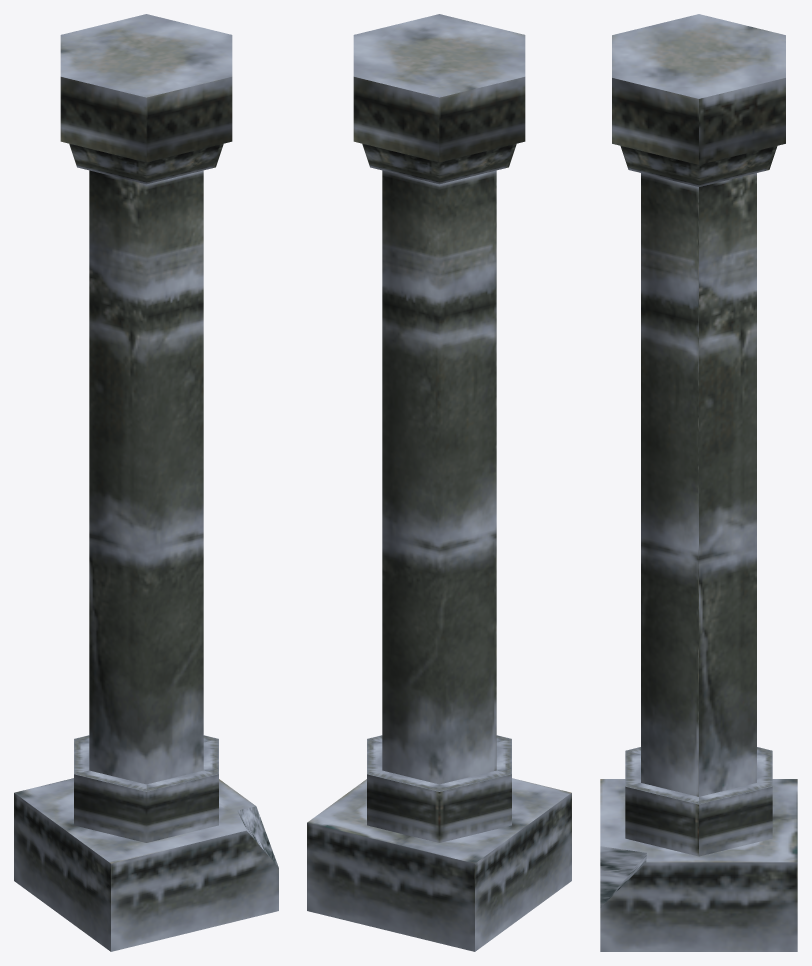
The model's file is SC_bingfengyiji_11.FBX.
3 views of the same model, side by side, from view 1: azimuth 30°, elevation 25°; view 2: azimuth 150°, elevation 25°; view 3: azimuth 270°, elevation 25° (orthographic).
Parts seen in each view (by area): view 1: SC_bingfengyiji_11; view 2: SC_bingfengyiji_11; view 3: SC_bingfengyiji_11.
Part boxes in pixels (bbox=[...]): SC_bingfengyiji_11: bbox=[14, 14, 278, 951]; SC_bingfengyiji_11: bbox=[307, 14, 571, 951]; SC_bingfengyiji_11: bbox=[600, 14, 797, 951].
Size of the model in its own units: 173 by 811 by 170.
